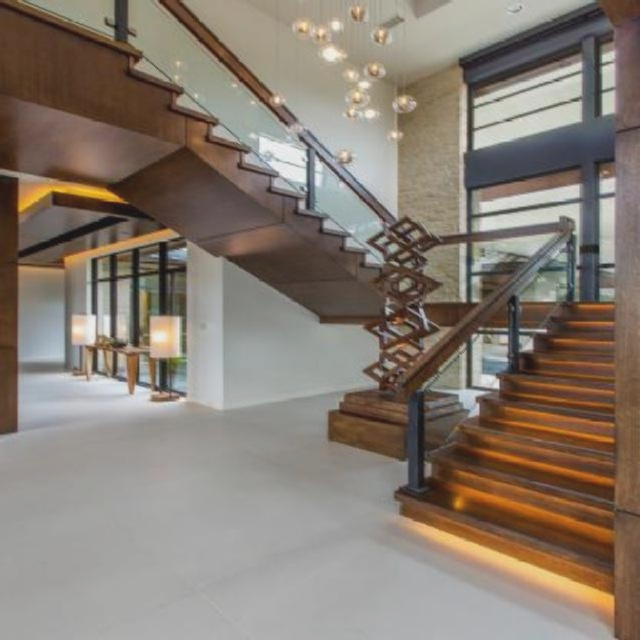stair: (278, 278, 612, 538)
